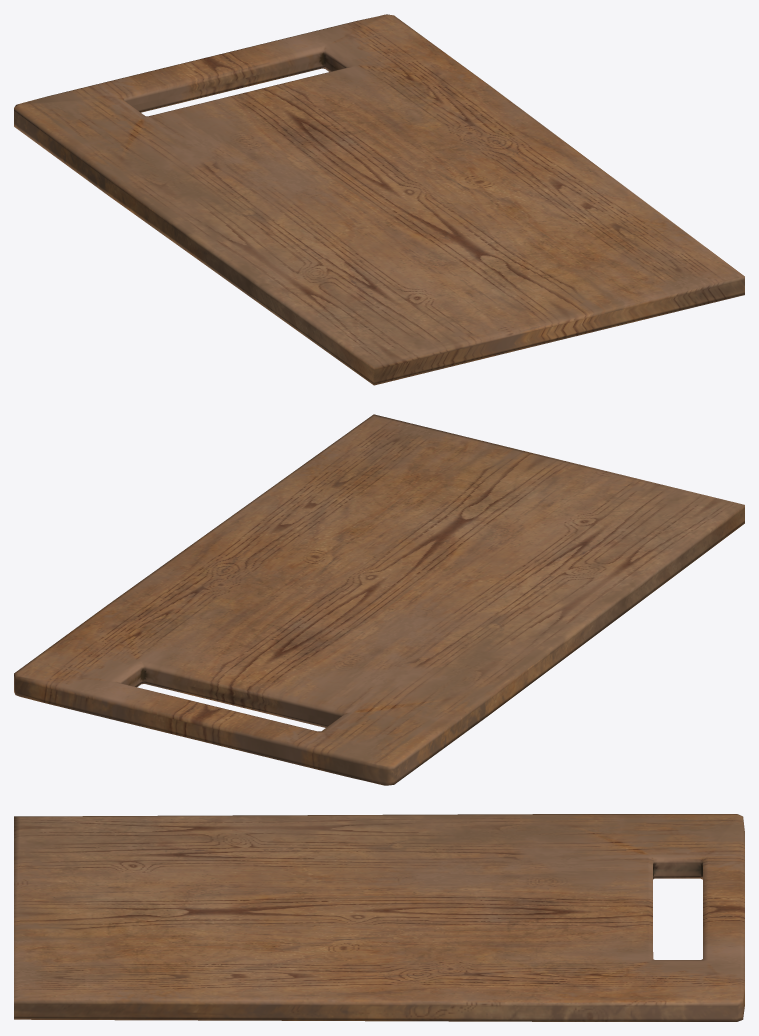
Rendered from Cutting_Board_Square.fbx.
The picture shows the model from 3 angles, top to bottom: view 1: azimuth 30°, elevation 25°; view 2: azimuth 150°, elevation 25°; view 3: azimuth 270°, elevation 25°; orthographic projection.
Parts seen in each view (by area): view 1: Cutting_Board_Square; view 2: Cutting_Board_Square; view 3: Cutting_Board_Square.
Boxes of the visible parts, x1,y1,x2,y2 form: Cutting_Board_Square: (14, 14, 744, 385); Cutting_Board_Square: (14, 414, 744, 785); Cutting_Board_Square: (14, 814, 744, 1021).
Size of the model in its own units: 14.42 by 0.7982 by 23.59.
